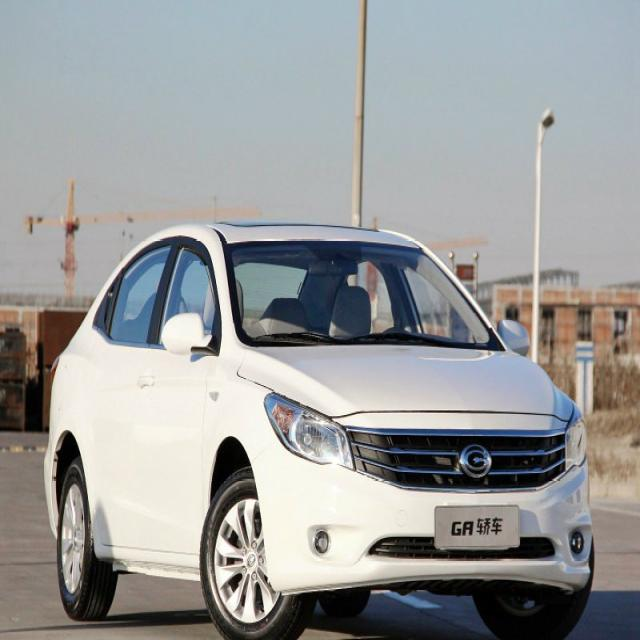back_right_side_light: (49, 355, 63, 379)
door: (91, 241, 175, 561)
front_bumper: (266, 456, 596, 592)
front_glass: (223, 242, 502, 347)
front_left_side_light: (562, 401, 588, 474)
front_left_side_mirror: (498, 316, 532, 358)
front_right_side_door: (133, 233, 215, 558)
front_right_side_light: (262, 386, 356, 474)
front_right_side_mirror: (161, 311, 217, 355)
wheel: (200, 464, 310, 640), (470, 542, 596, 636), (56, 460, 114, 620)
